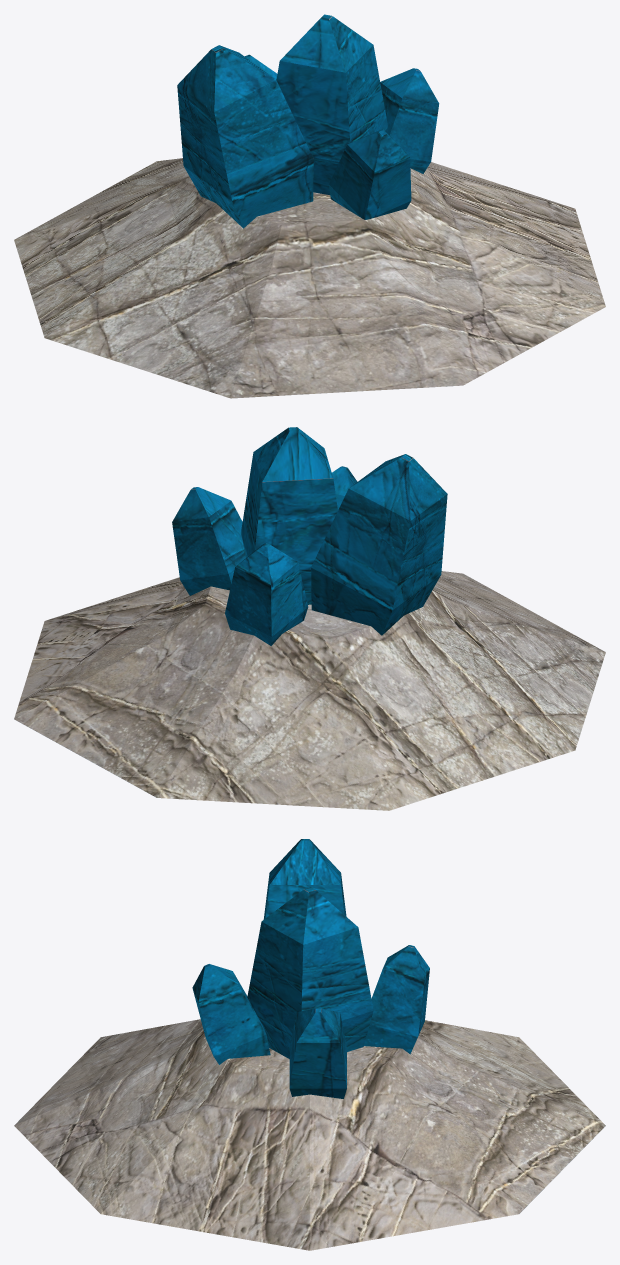
Rendered from newCrystal.fbx.
3 views of the same model, one above another, from view 1: azimuth 30°, elevation 25°; view 2: azimuth 150°, elevation 25°; view 3: azimuth 270°, elevation 25° (orthographic). The views are drawn at different scales.
Parts seen in each view (by area): view 1: Cylinder; view 2: Cylinder; view 3: Cylinder.
Boxes of the visible parts, x1,y1,x2,y2 form: Cylinder: (14, 14, 605, 398); Cylinder: (14, 427, 605, 810); Cylinder: (14, 839, 605, 1250).
Size of the model in its own units: 200 by 90.92 by 200.
